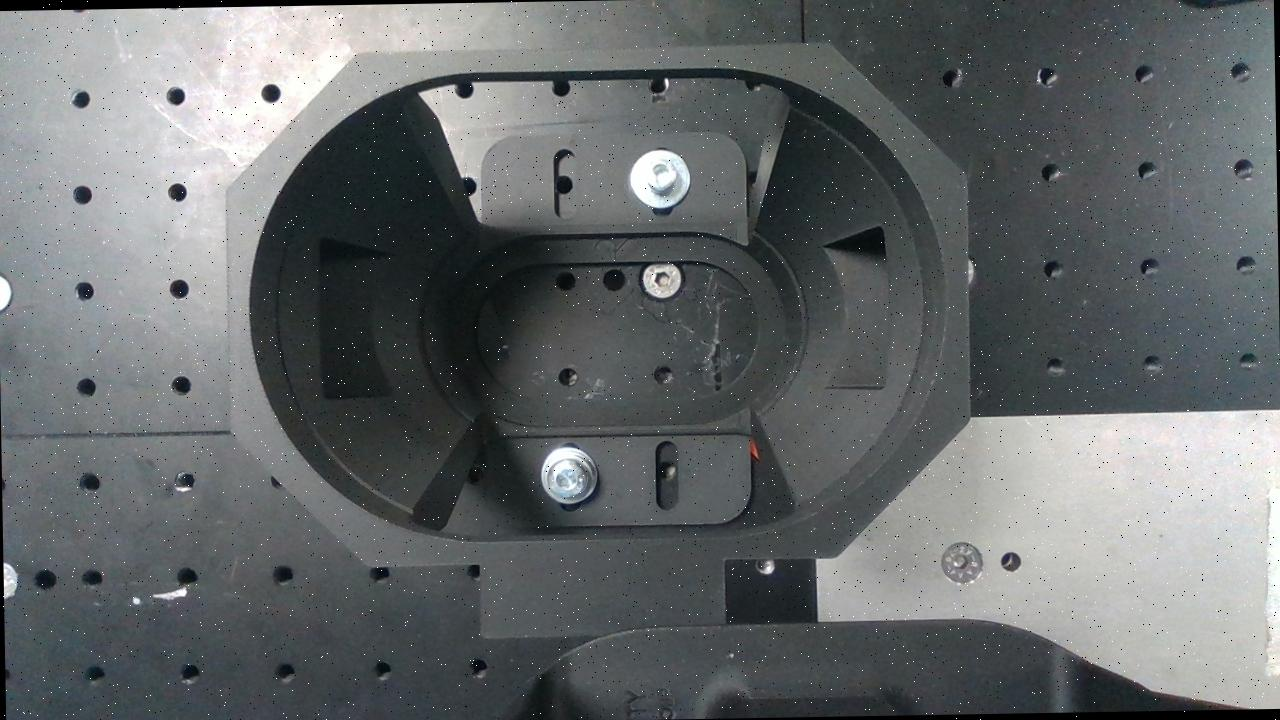big_interface: (224, 40, 976, 570)
